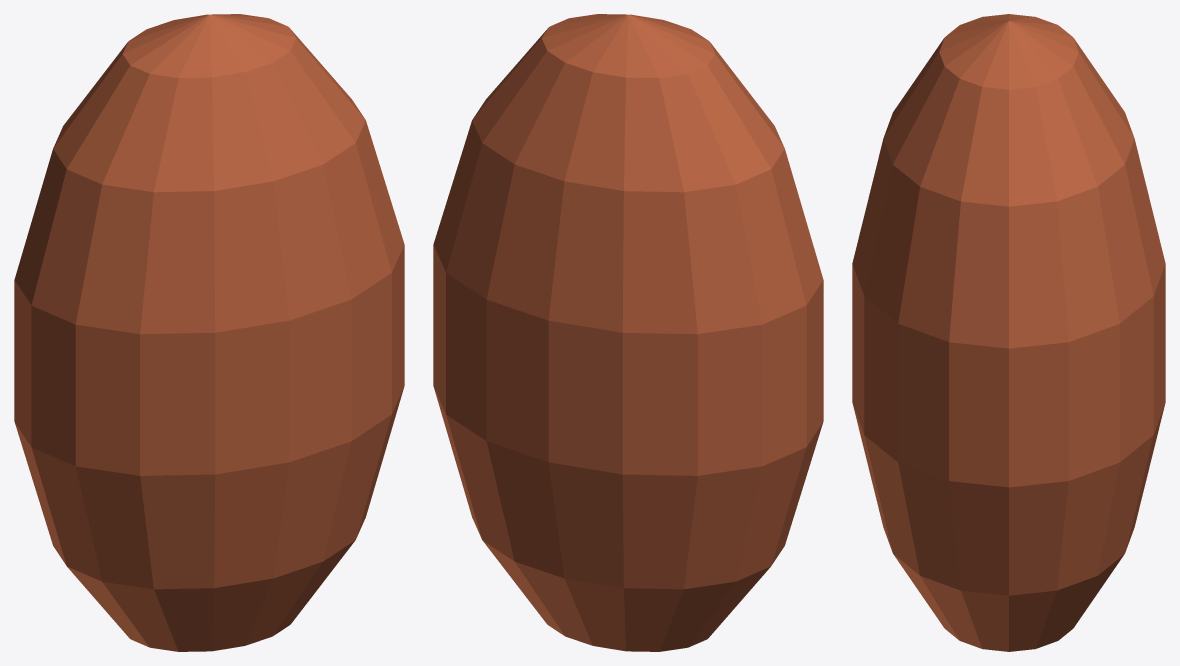
Rendered from Ear_L.obj.
The picture shows the model from 3 angles, left to right: view 1: azimuth 30°, elevation 25°; view 2: azimuth 150°, elevation 25°; view 3: azimuth 270°, elevation 25°; orthographic projection. The views are drawn at different scales.
Visible parts, largest first — view 1: Ear_L; view 2: Ear_L; view 3: Ear_L.
Part boxes in pixels (x1,y1,x2,y2): Ear_L: [14, 14, 404, 651]; Ear_L: [433, 14, 823, 651]; Ear_L: [852, 14, 1165, 651].
Size of the model in its own units: 0.0877 by 0.15 by 0.0682.
